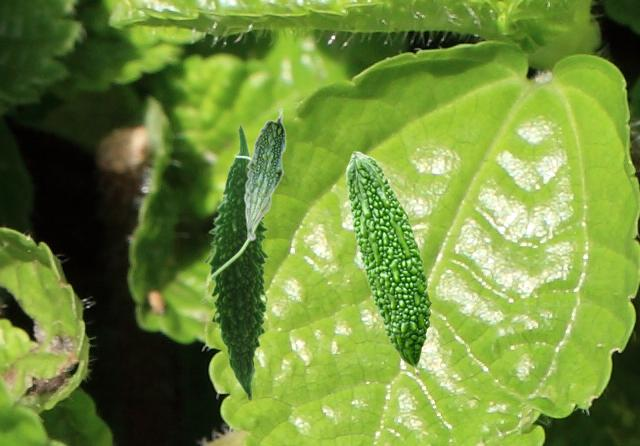ampalaya: (345, 150, 433, 376), (203, 123, 270, 403), (242, 106, 288, 243)
